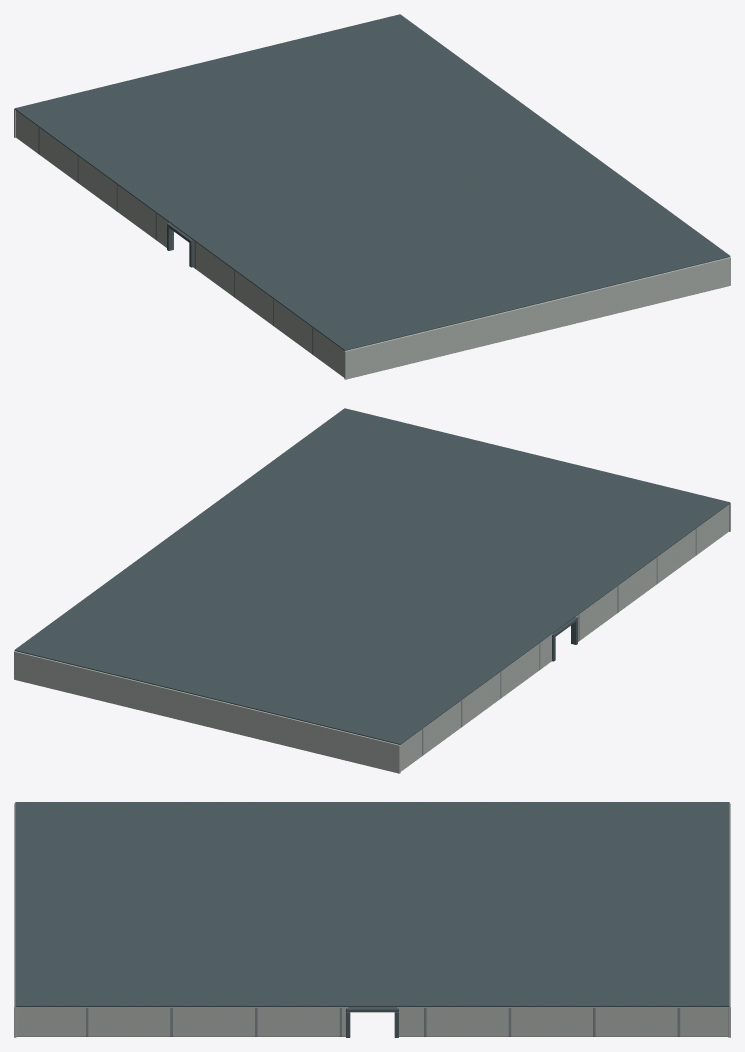
File: D03_directory_05_runtime_names001.glb
The picture shows the model from 3 angles, top to bottom: view 1: azimuth 30°, elevation 25°; view 2: azimuth 150°, elevation 25°; view 3: azimuth 270°, elevation 25°; orthographic projection. The views are drawn at different scales.
Visible parts, largest first — view 1: D03_directory_05_N00016, D03_directory_05_N00015, D03_directory_05_N00000, D03_directory_05_N00001; view 2: D03_directory_05_N00016, D03_directory_05_N00014, D03_directory_05_N00001, D03_directory_05_N00000; view 3: D03_directory_05_N00016, D03_directory_05_N00007, D03_directory_05_N00008, D03_directory_05_N00014, D03_directory_05_N00015.
Boxes of the visible parts, left/top/right/bottom form: D03_directory_05_N00016: left=14, top=14, right=730, bottom=350; D03_directory_05_N00015: left=344, top=257, right=730, bottom=379; D03_directory_05_N00000: left=16, top=110, right=169, bottom=247; D03_directory_05_N00001: left=192, top=239, right=344, bottom=377; D03_directory_05_N00016: left=14, top=408, right=730, bottom=744; D03_directory_05_N00014: left=14, top=651, right=400, bottom=773; D03_directory_05_N00001: left=575, top=504, right=728, bottom=641; D03_directory_05_N00000: left=400, top=633, right=552, bottom=771; D03_directory_05_N00016: left=15, top=802, right=729, bottom=1006; D03_directory_05_N00007: left=396, top=1007, right=728, bottom=1036; D03_directory_05_N00008: left=16, top=1007, right=348, bottom=1036; D03_directory_05_N00014: left=728, top=803, right=730, bottom=1037; D03_directory_05_N00015: left=14, top=803, right=16, bottom=1037.
Size of the model in its own units: 45.75 by 3.34 by 67.84.
Materials: 27 (27 with a texture image).
